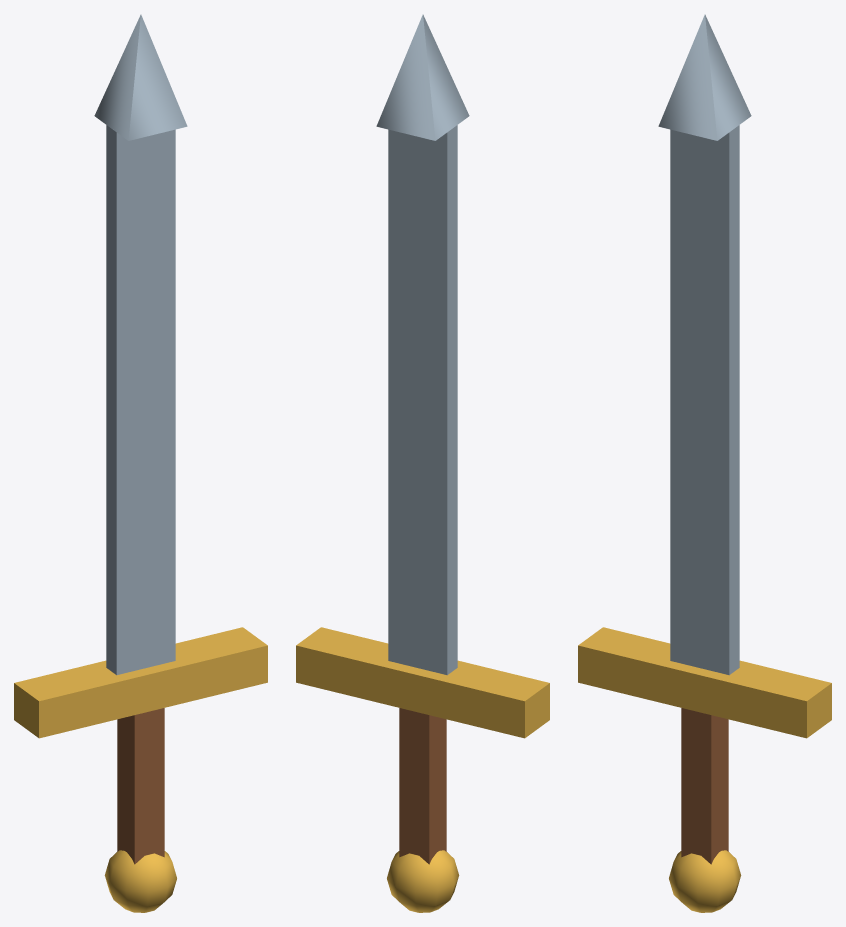
Rendered from sword.gltf.
The picture shows the model from 3 angles, left to right: view 1: azimuth 30°, elevation 25°; view 2: azimuth 150°, elevation 25°; view 3: azimuth 330°, elevation 25°; orthographic projection.
Visible parts, largest first — view 1: Sword; view 2: Sword; view 3: Sword.
Boxes of the visible parts, x1,y1,x2,y2 form: Sword: (14,14,267,912); Sword: (296,14,549,912); Sword: (578,14,831,912).
Size of the model in its own units: 0.29 by 1.09 by 0.0761.
